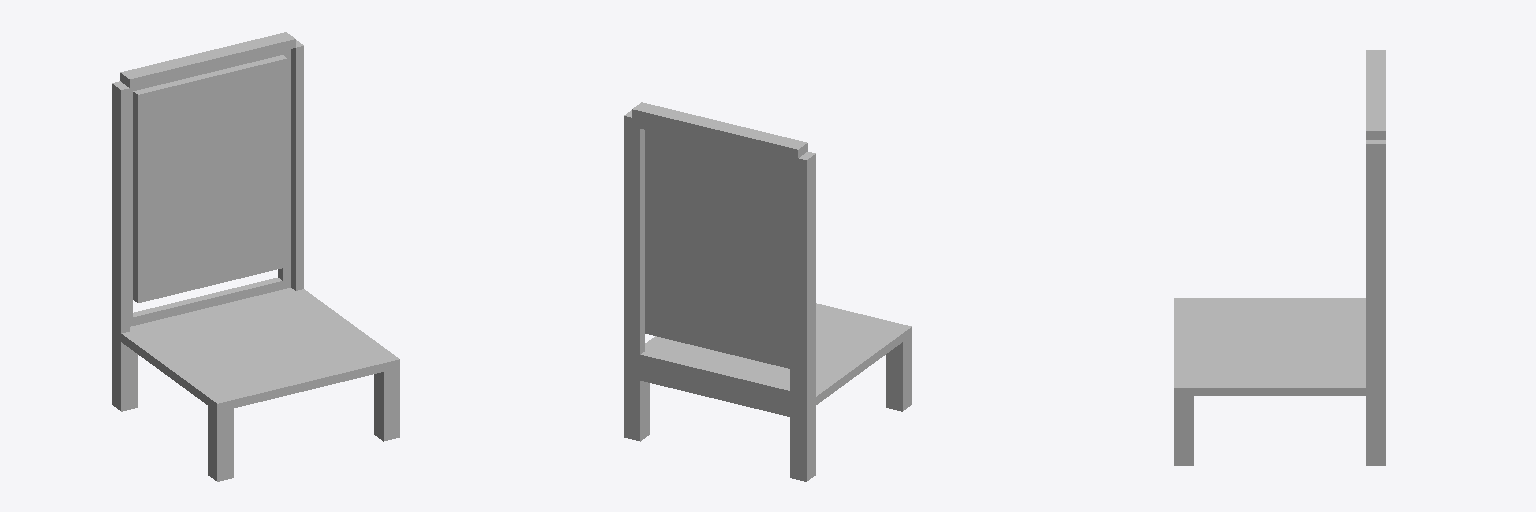
File: chair.obj
3 renders of one model, left to right at view 1: azimuth 30°, elevation 25°; view 2: azimuth 150°, elevation 25°; view 3: azimuth 270°, elevation 25°, orthographic.
Visible parts, largest first — view 1: object 1; view 2: object 1; view 3: object 1.
Part boxes in pixels (bbox=[...]): object 1: bbox=[112, 32, 399, 481]; object 1: bbox=[624, 102, 911, 481]; object 1: bbox=[1174, 50, 1385, 465].
Bounding box in the file's own units: 2.2 × 3.8 × 2.2.